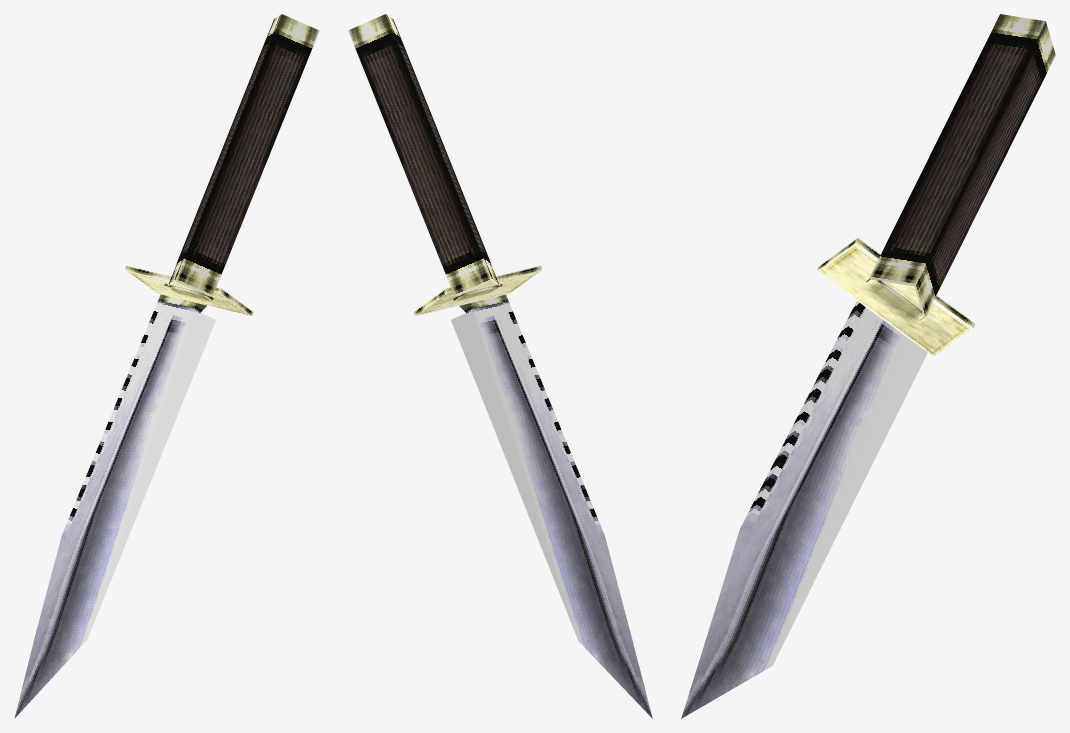
File: ps2_save-icons_beatdownfistsofvengeance.glb
The picture shows the model from 3 angles, left to right: view 1: azimuth 30°, elevation 25°; view 2: azimuth 150°, elevation 25°; view 3: azimuth 330°, elevation 25°; orthographic projection. The views are drawn at different scales.
Visible parts, largest first — view 1: icondata.ico; view 2: icondata.ico; view 3: icondata.ico.
Boxes of the visible parts, bbox=[...] form: icondata.ico: bbox=[14, 14, 319, 718]; icondata.ico: bbox=[348, 14, 652, 718]; icondata.ico: bbox=[681, 14, 1055, 718].
Size of the model in its own units: 2.26 by 4.5 by 0.4104.
1 material, 1 textured.
